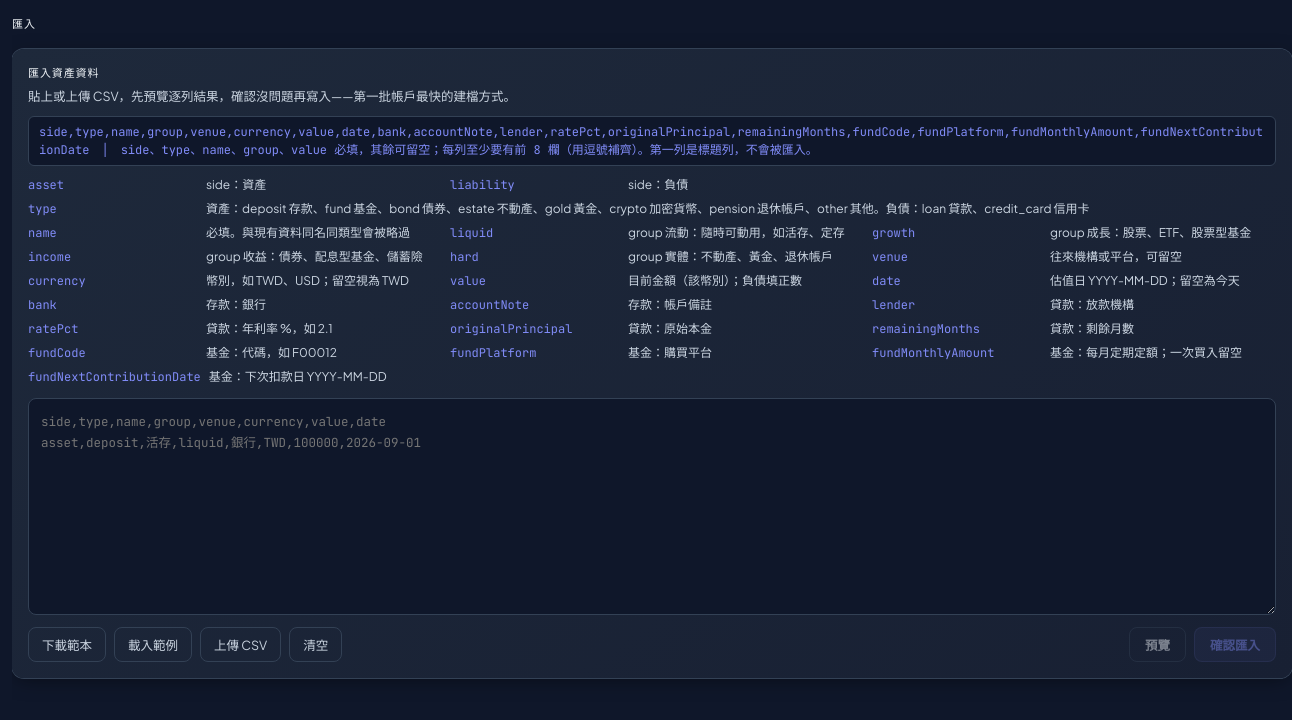
Test: the editor › can't preview or write an empty box
expect the button "預覽" is disabled: met, box [1129,627,1186,662]
expect the button "確認匯入" is disabled: met, box [1194,627,1276,662]
Replace the text in the text box with "x": {"x": 652, "y": 506} [28,398,1276,615]
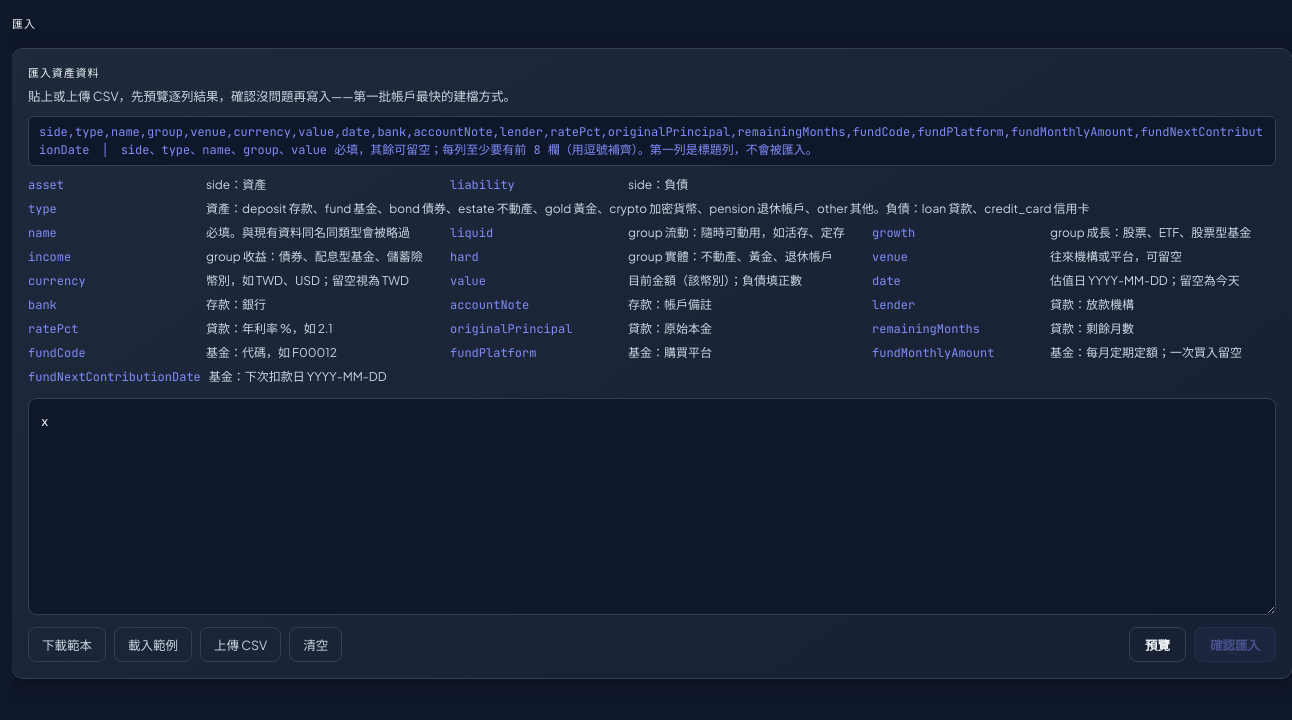
expect the button "預覽" is enabled: met, box [1129,627,1186,662]
